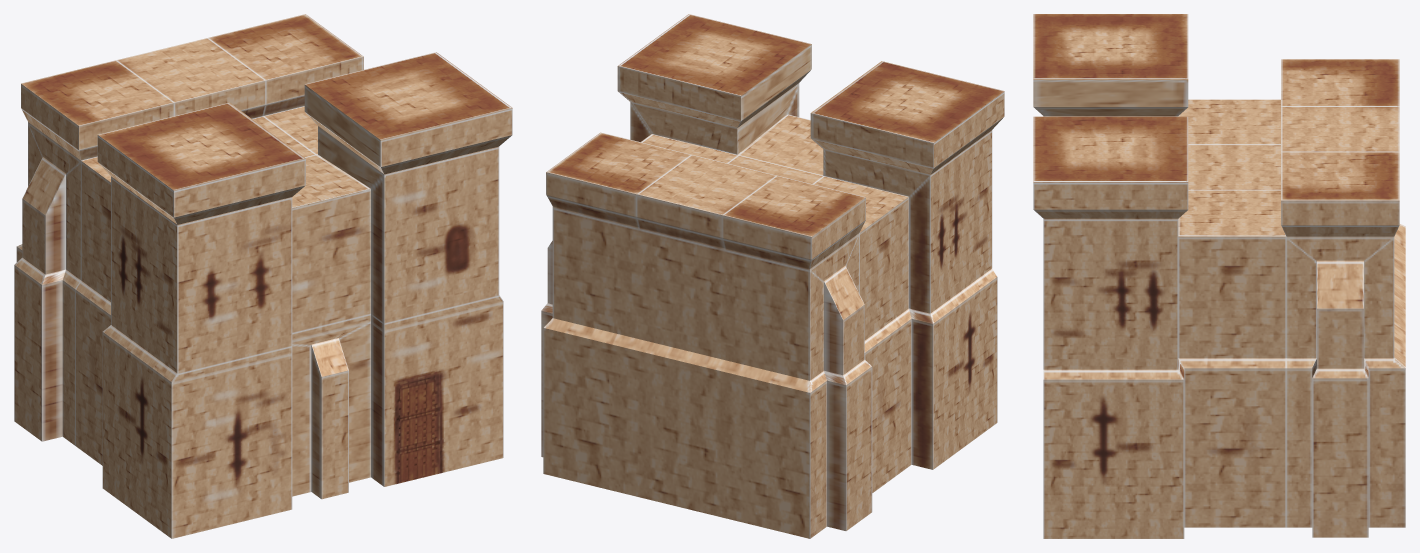
File: Castle.fbx
3 renders of one model, left to right at view 1: azimuth 30°, elevation 25°; view 2: azimuth 150°, elevation 25°; view 3: azimuth 270°, elevation 25°, orthographic. The views are drawn at different scales.
Visible parts, largest first — view 1: Castle; view 2: Castle; view 3: Castle.
Boxes of the visible parts, left/top/right/bottom form: Castle: left=14, top=14, right=512, bottom=538; Castle: left=541, top=14, right=1004, bottom=538; Castle: left=1033, top=14, right=1405, bottom=538.
Size of the model in its own units: 14.74 by 14.67 by 13.78.
